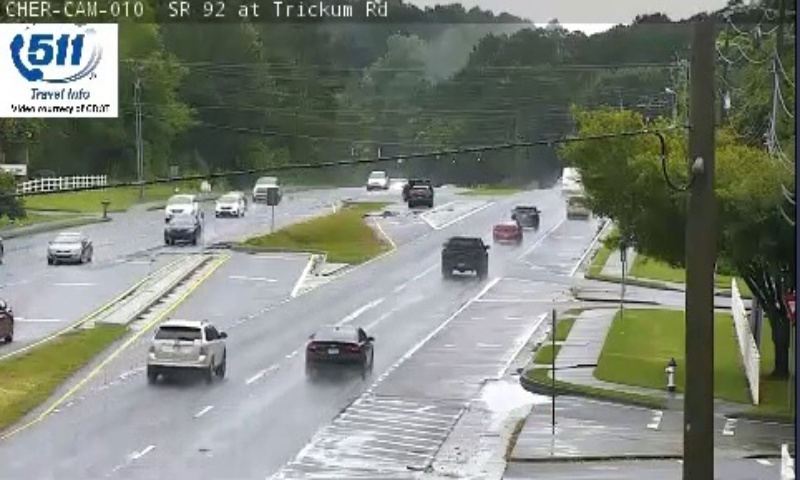car: (146, 319, 225, 368), (307, 324, 373, 373), (441, 238, 486, 274), (510, 203, 540, 229), (492, 220, 521, 243)
